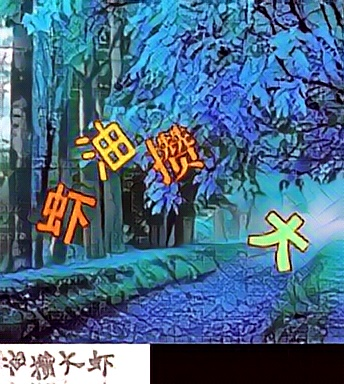B4F3: (247, 208, 310, 274)
CFBA: (33, 180, 96, 246)
D3CD: (73, 117, 136, 183)
D4DC: (143, 123, 206, 189)
